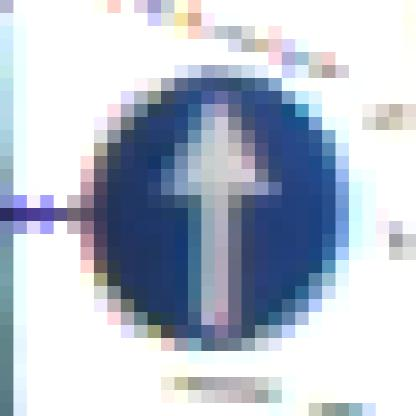AheadOnly: (68, 66, 350, 352)
